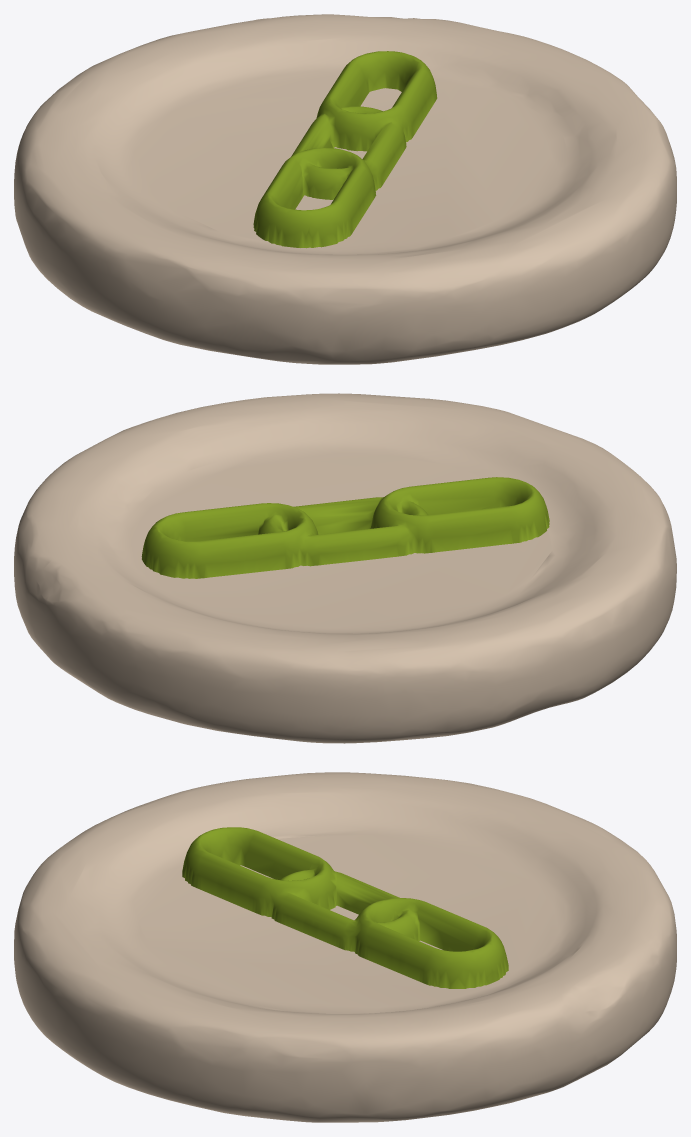
Rendered from token-warlock-red.glb.
The picture shows the model from 3 angles, top to bottom: view 1: azimuth 30°, elevation 25°; view 2: azimuth 150°, elevation 25°; view 3: azimuth 270°, elevation 25°; orthographic projection.
Visible parts, largest first — view 1: token_warlock_red; view 2: token_warlock_red; view 3: token_warlock_red.
Boxes of the visible parts, box(x1,y1,x2,y2) form: token_warlock_red: box(14, 14, 676, 364); token_warlock_red: box(14, 393, 676, 743); token_warlock_red: box(14, 772, 676, 1122).
Size of the model in its own units: 0.414 by 0.0717 by 0.4142.
